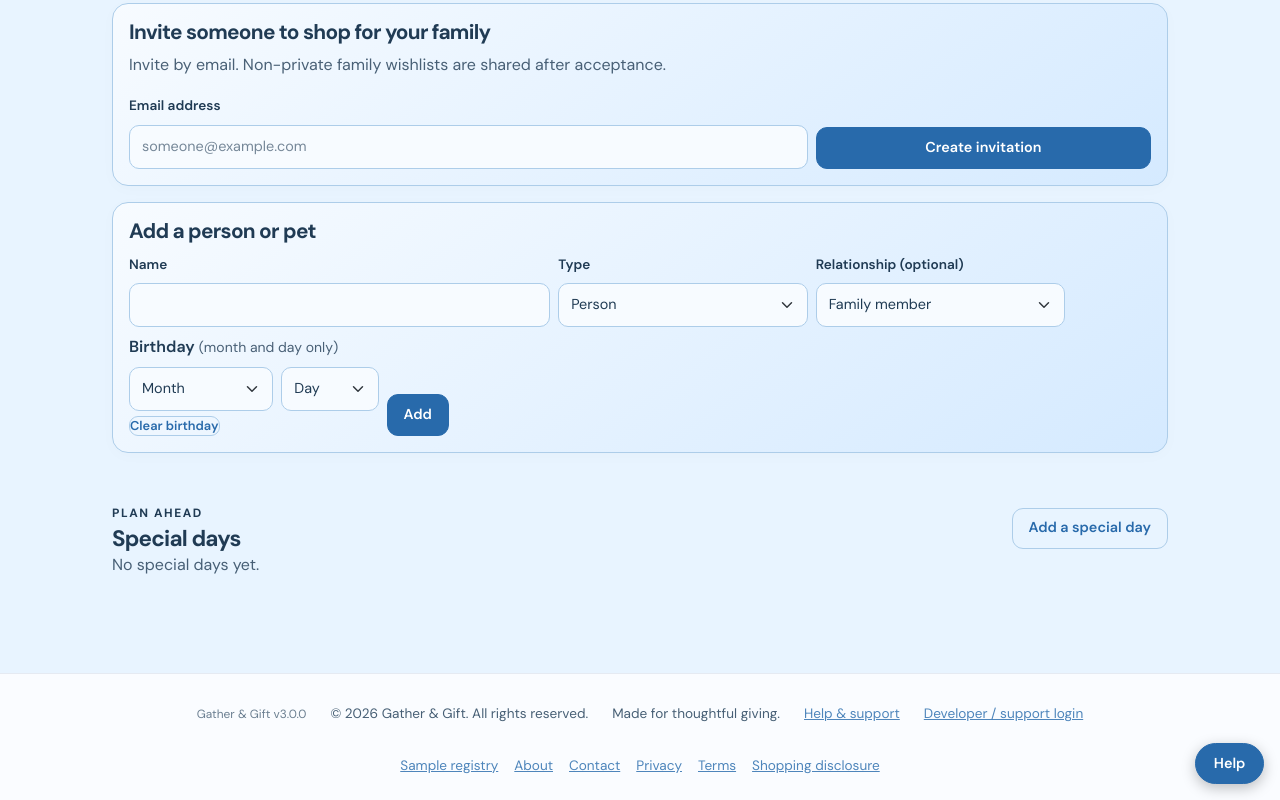
Test: household special-day dialog › keeps the occasion form off the page until requested
(page scrolled)
Expected: the field labelled "Occasion" is not shown
Click the button "Add a special day".
click(1090, 528)  # box [1012, 508, 1168, 549]
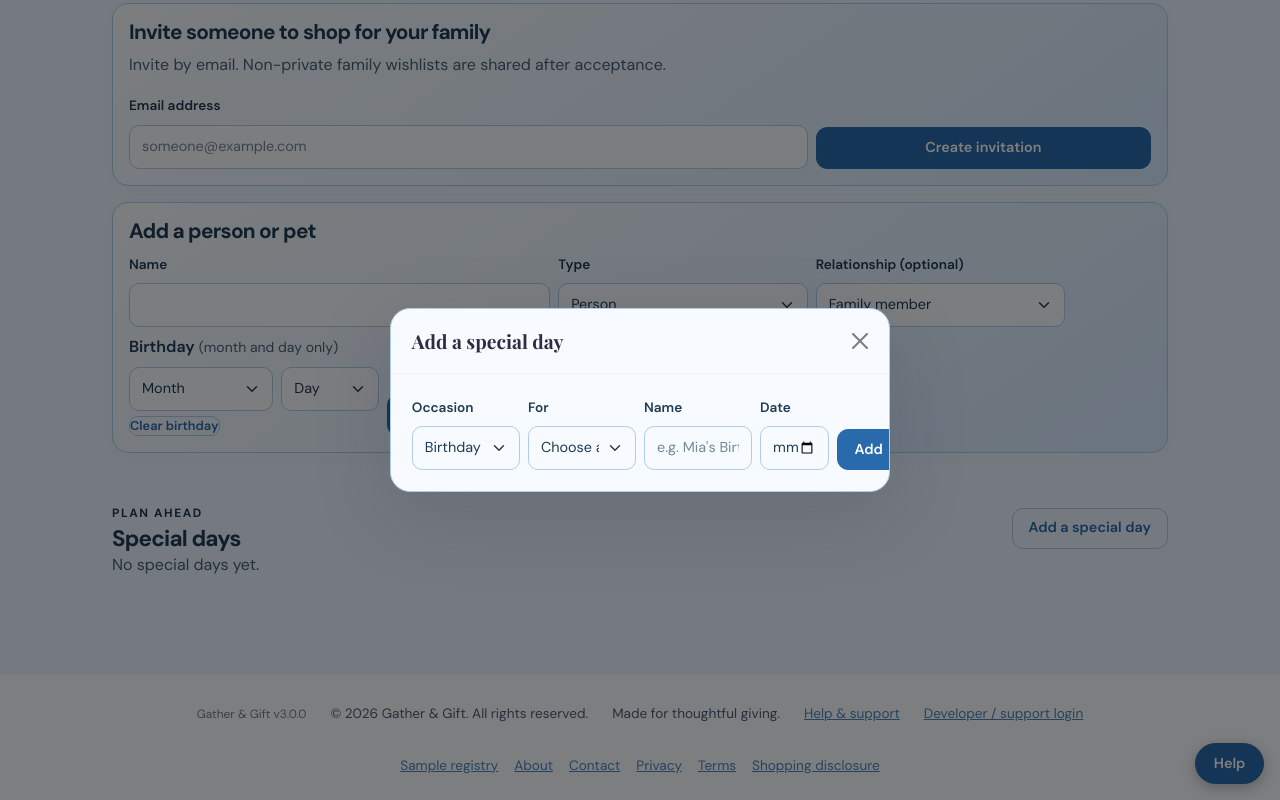
Expected: the dropdown labelled "Occasion" is shown, [412, 426, 520, 470]
